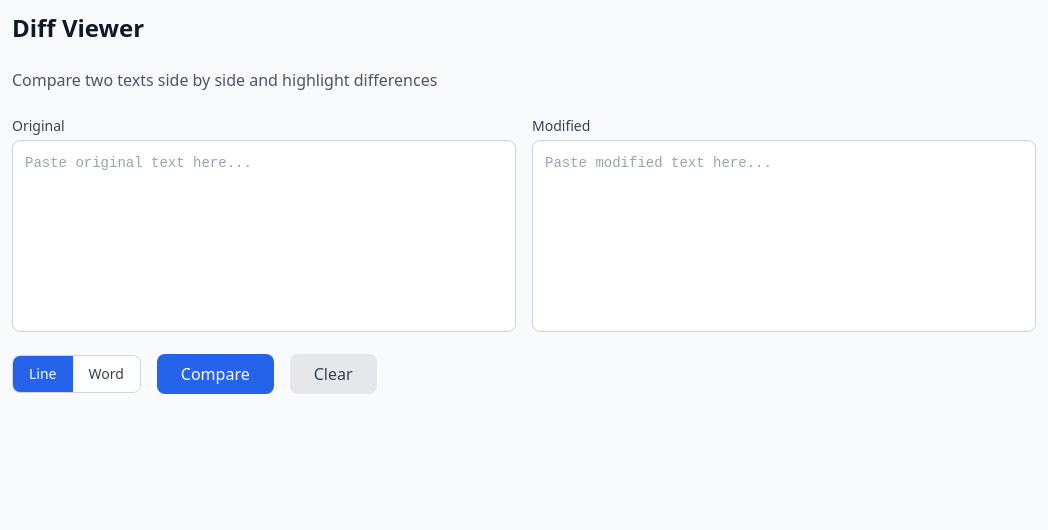
Test: DiffViewer › clear button resets everything
The width and height of the screenshot is (1048, 530).
Step 1. Type "a" into the text box labelled "Original" → (264, 236), box [12,140,516,332]
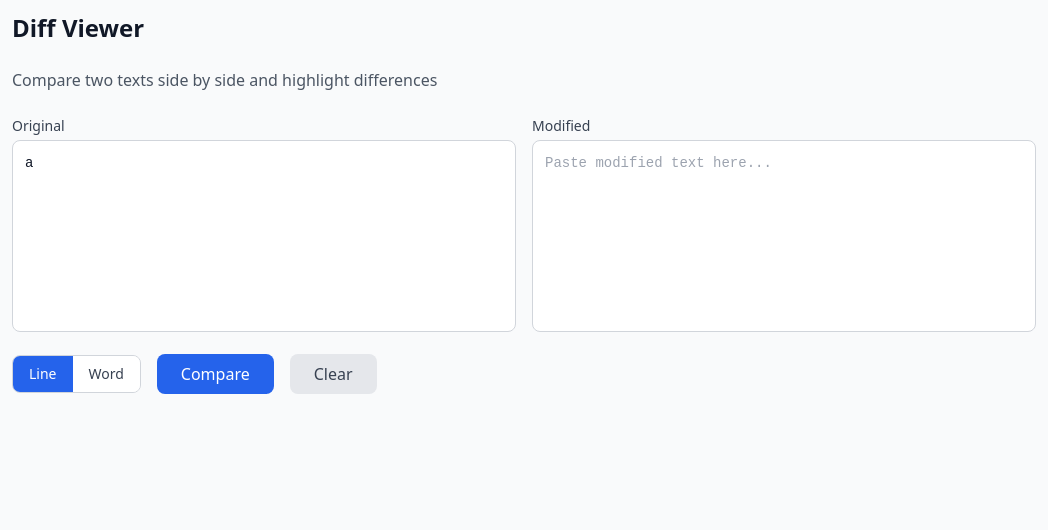
Step 2. Type "b" into the text box labelled "Modified" → (784, 236), box [532,140,1036,332]
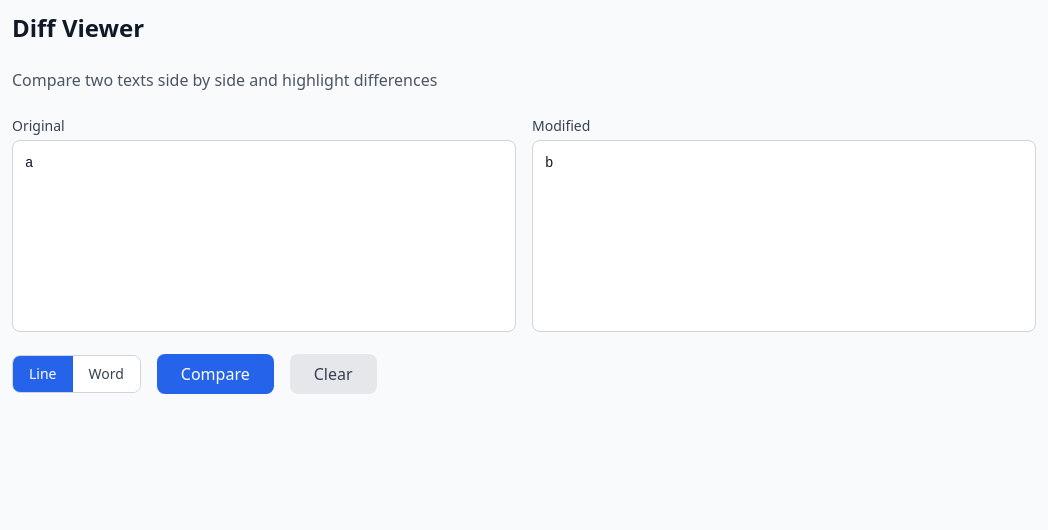
Step 3. Click the button "Compare" → (215, 374), box [157,354,274,394]
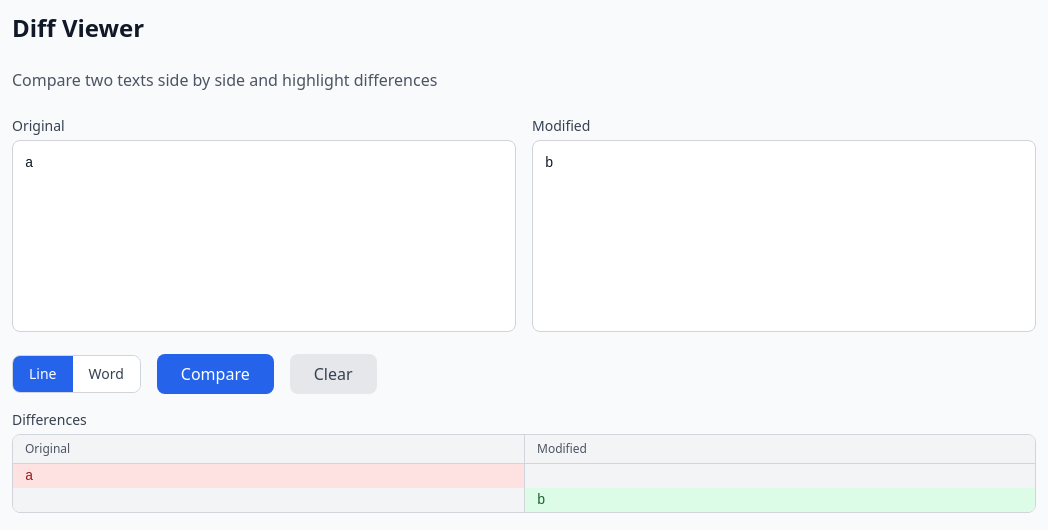
Step 4. Click the button "Clear" → (333, 374), box [290,354,377,394]
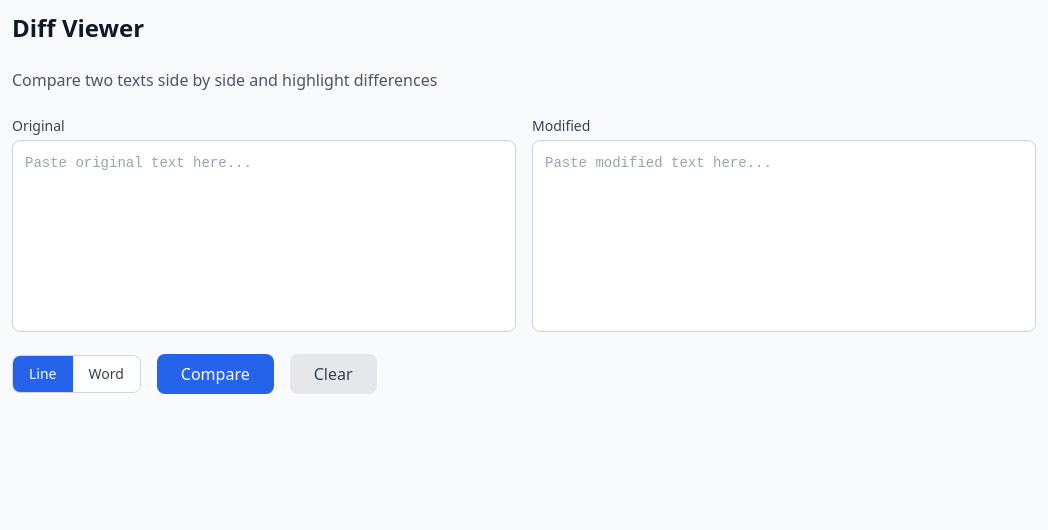
Result: the text box labelled "Original" is empty at [12,140,516,332]
Result: the text box labelled "Modified" is empty at [532,140,1036,332]
